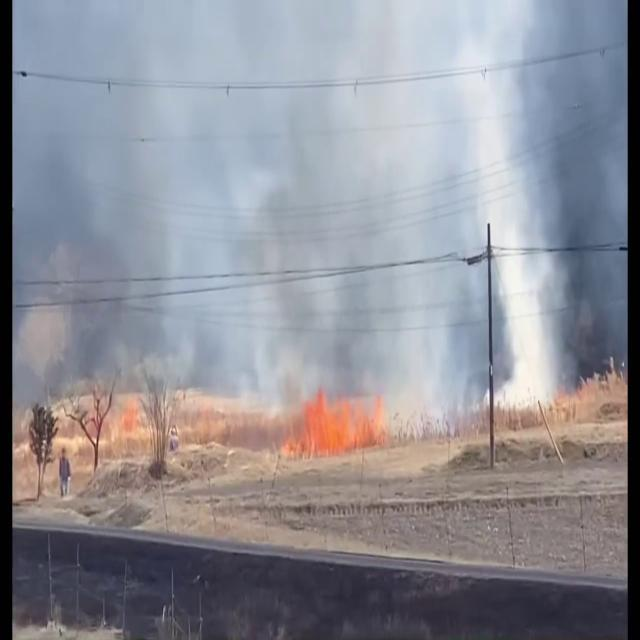Fire: (284, 376, 406, 464)
Smoke: (19, 1, 628, 423)
